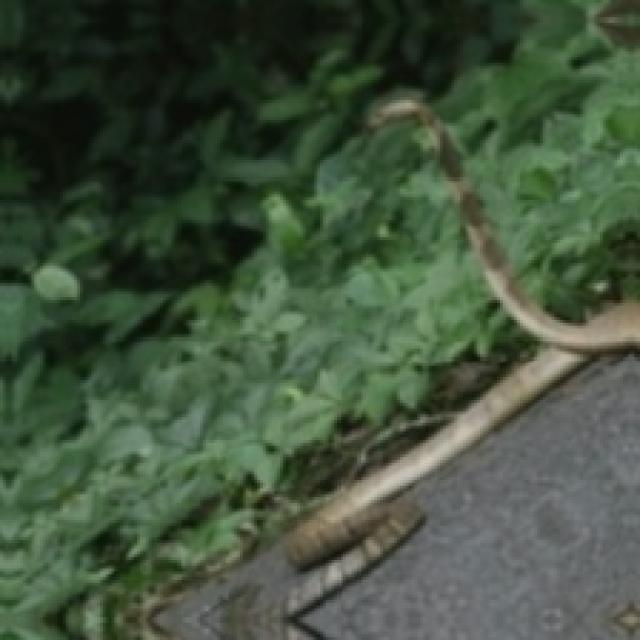king cobra: (154, 97, 637, 637)
